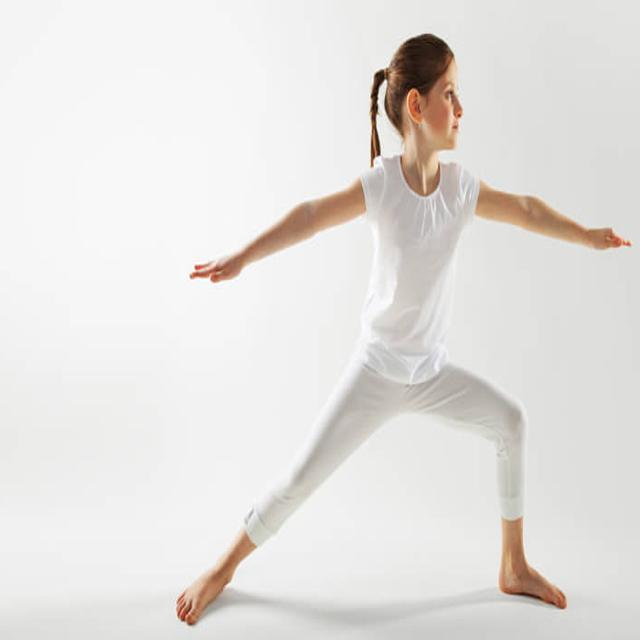Warrior_II: (169, 30, 640, 631)
